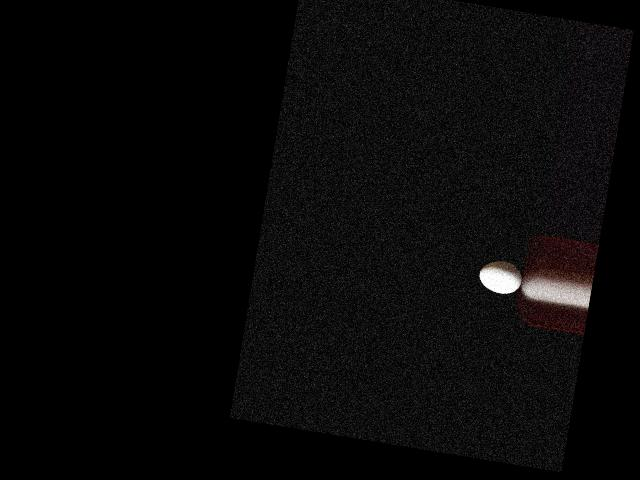egg: (477, 258, 524, 296)
